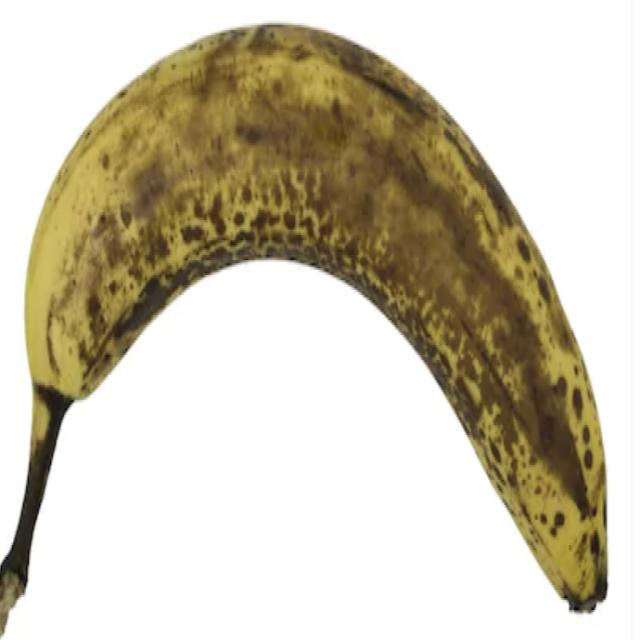rotten-banana: (0, 20, 608, 635)
